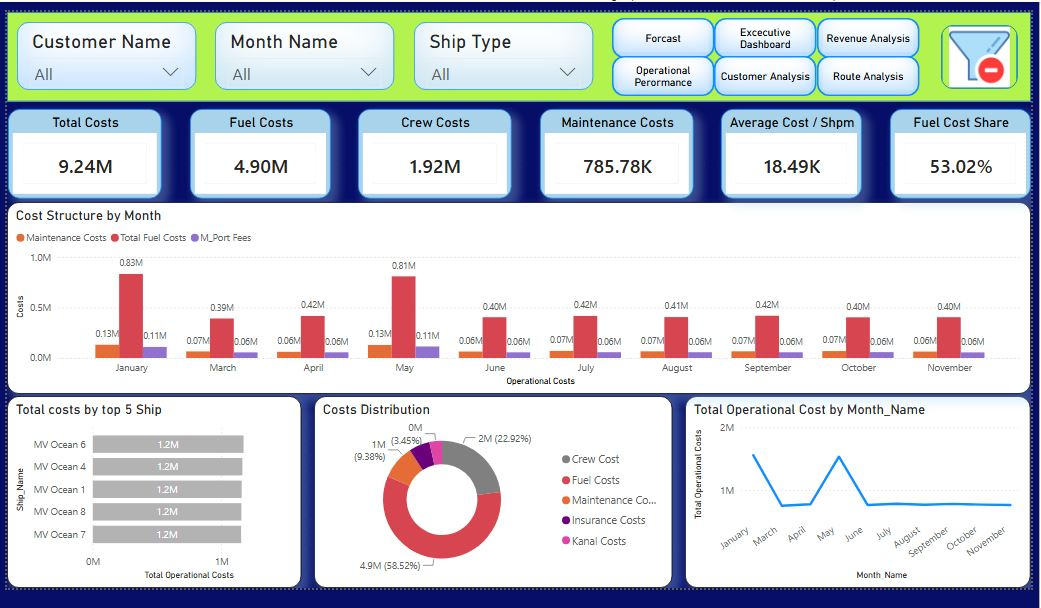

What the dashboard file says about the page in this screenshot:
{"tool":"powerbi","page":{"name":"03 Cost Analysis","canvas":[1280,720],"ordinal":2},"visuals":[{"type":"shape","box":[0,0,1280,112],"z":0,"group":"g2"},{"type":"cardVisual","title":"Total Costs","fields":{"Data":["Measure.M_Total costs"]},"box":[1.3,121.8,192,112],"z":0},{"type":"image","box":[1168,16,96,80],"z":1000,"group":"g2"},{"type":"cardVisual","title":"Fuel Costs","fields":{"Data":["Measure.M_Total Fuel Costs"]},"box":[228.2,121.7,176,112],"z":1000},{"type":"slicer","fields":{"Values":["Dim_Ships.Ship_Type"]},"box":[508.5,12.5,224,85],"z":2000,"group":"g2"},{"type":"cardVisual","title":"Crew Costs","fields":{"Data":["Measure.M_Total Crew Cost"]},"box":[439.1,121.7,192,112],"z":2000},{"type":"slicer","fields":{"Values":["Calender.Month_Name"]},"box":[260.5,12.5,224,85],"z":3000,"group":"g2"},{"type":"lineChart","title":"Total Operational Cost by Month_Name","fields":{"Y":["Measure.M_Total Operational Cost"],"Category":["Calender.Month_Name"]},"box":[848,480,432,240],"z":3000},{"type":"slicer","fields":{"Values":["Dim_Customers.Customer_Name"]},"box":[12.5,12.5,224,85],"z":4000,"group":"g2"},{"type":"cardVisual","title":"Maintenance Costs","fields":{"Data":["Measure.M_Total Maintenance Costs"]},"box":[666,121.7,192,112],"z":4000},{"type":"shape","box":[756.2,7.5,128,50],"z":5000,"group":"g2"},{"type":"clusteredColumnChart","title":"Cost Structure by Month","fields":{"Category":["Calender.Month_Name"],"Y":["Measure.M_Total Maintenance Costs","Measure.M_Total Fuel Costs","Measure.M_Port Fees"]},"box":[0,236.9,1280,240],"z":5000},{"type":"shape","box":[884.2,7.5,128,50],"z":6000,"group":"g2"},{"type":"cardVisual","title":"Average Cost / Shpm","fields":{"Data":["Measure.M_Average Cost per Shipment"]},"box":[892.9,121.7,176,112],"z":6000},{"type":"shape","box":[1012.2,7.5,128,50],"z":7000,"group":"g2"},{"type":"cardVisual","title":"Fuel Cost Share","fields":{"Data":["Measure.M_Fuel Cost Share"]},"box":[1103.8,121.7,176,112],"z":7000},{"type":"shape","box":[756.2,55.5,128,50],"z":8000,"group":"g2"},{"type":"donutChart","title":"Costs Distribution","fields":{"Y":["Measure.M_Total Crew Cost","Measure.M_Total Fuel Costs","Measure.M_Total Maintenance Costs","Measure.M_Total Operationa Insurance","Measure.M_Total Operational Kanal"]},"box":[384,480,448,240],"z":8000},{"type":"shape","box":[884.2,55.5,128,50],"z":9000,"group":"g2"},{"type":"clusteredBarChart","title":"Total costs by top 5 Ship","fields":{"Category":["Dim_Ships.Ship_Name"],"Y":["Measure.M_Total Operational Cost"]},"box":[0,480,368,240],"z":9000},{"type":"group","id":"g1","title":"Group 1","box":[0,0,1280,112],"z":10000},{"type":"shape","box":[1012.2,55.5,128,50],"z":10000,"group":"g2"},{"type":"group","id":"g2","title":"Group 2","box":[0,0,1280,112],"z":11001,"group":"g1"}]}

Visuals, with their boxes in screenshot pixels (x1, y1, x2, y2):
shape: [3, 8, 1029, 98]
"Total Costs" cardVisual: [4, 106, 158, 196]
image: [939, 21, 1016, 85]
"Fuel Costs" cardVisual: [186, 106, 327, 196]
slicer - Dim_Ships.Ship_Type: [411, 18, 590, 86]
"Crew Costs" cardVisual: [355, 106, 509, 196]
slicer - Calender.Month_Name: [212, 18, 391, 86]
"Total Operational Cost by Month_Name" lineChart: [683, 393, 1029, 586]
slicer - Dim_Customers.Customer_Name: [13, 18, 192, 86]
"Maintenance Costs" cardVisual: [537, 106, 691, 196]
shape: [609, 14, 712, 54]
"Cost Structure by Month" clusteredColumnChart: [3, 198, 1029, 391]
shape: [712, 14, 815, 54]
"Average Cost / Shpm" cardVisual: [719, 106, 860, 196]
shape: [815, 14, 917, 54]
"Fuel Cost Share" cardVisual: [888, 106, 1029, 196]
shape: [609, 53, 712, 93]
"Costs Distribution" donutChart: [311, 393, 670, 586]
shape: [712, 53, 815, 93]
"Total costs by top 5 Ship" clusteredBarChart: [3, 393, 298, 586]
"Group 1" group: [3, 8, 1029, 98]
shape: [815, 53, 917, 93]
"Group 2" group: [3, 8, 1029, 98]
